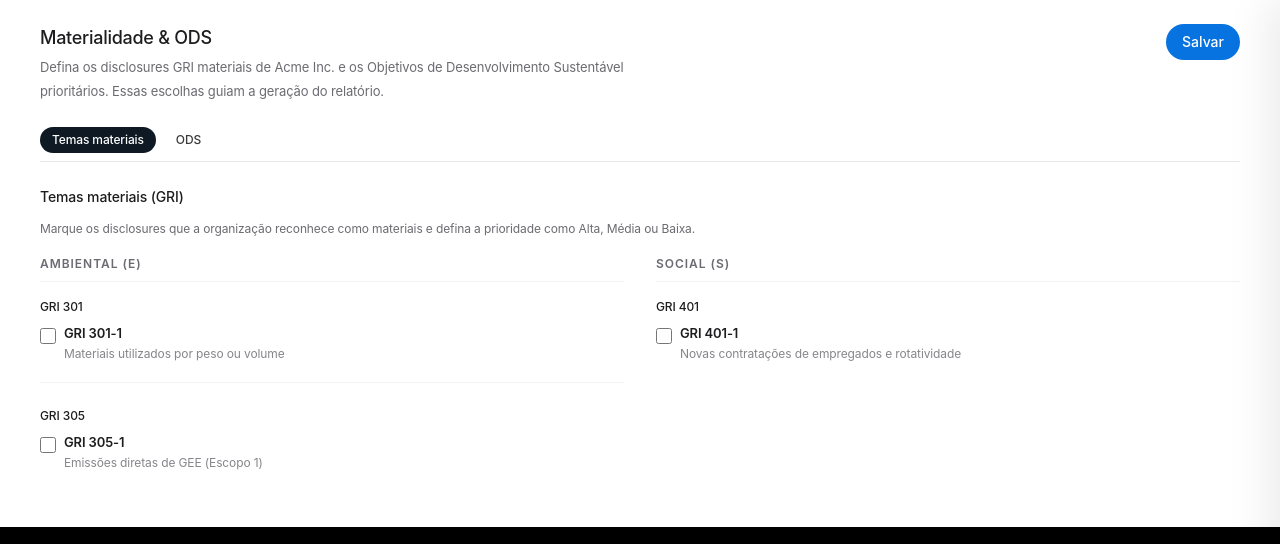
ProjectMaterialityPage › renders ODS cards fetched from the reference API
Click the 2nd tab named "ODS": click(188, 140) [164,127,213,153]
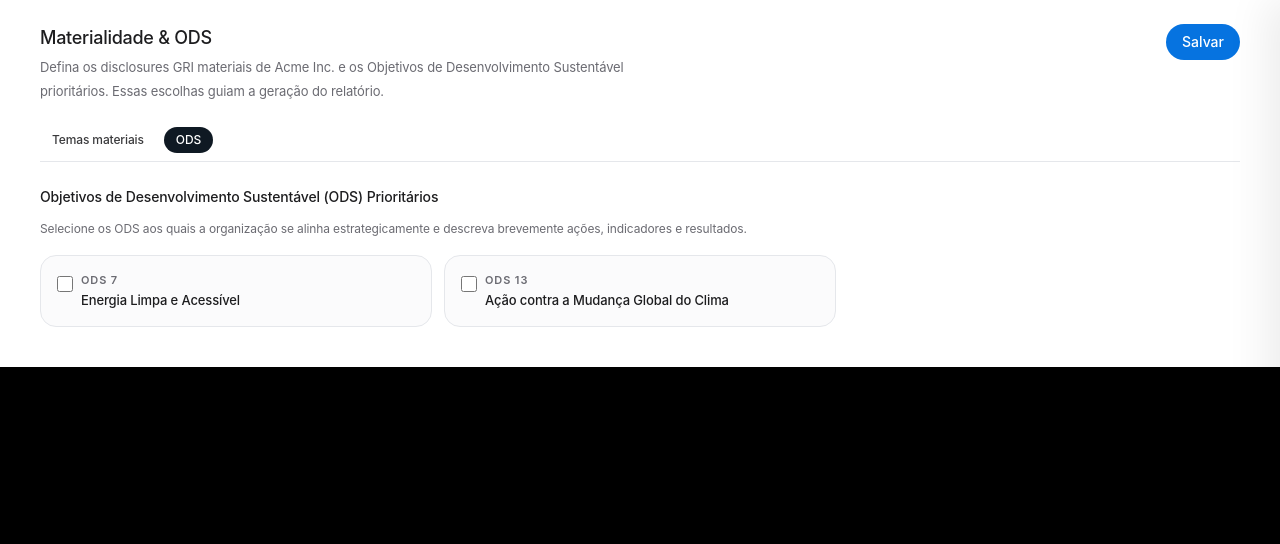
Now the 3rd text "ODS 7" is shown, box [81,273,118,287]
Now the 5th text "Energia Limpa e Acessível" is shown, box [81,292,240,308]
Now the 4th text "ODS 13" is shown, box [485,273,528,287]
